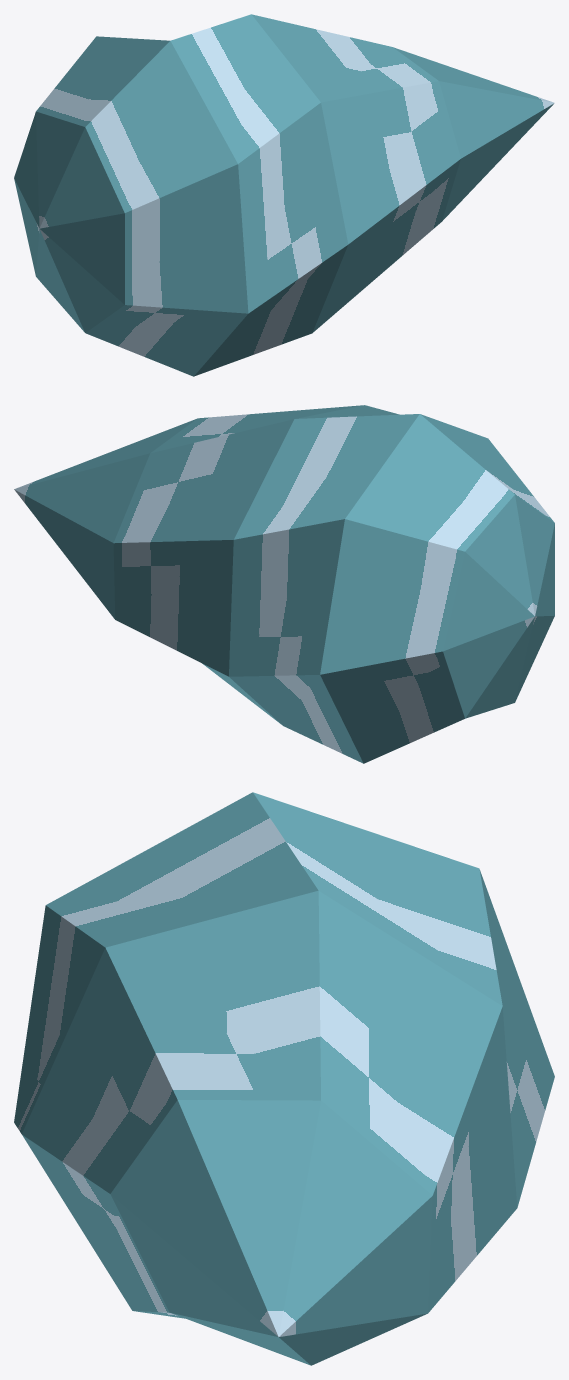
Rendered from bala.fbx.
3 renders of one model, top to bottom at view 1: azimuth 30°, elevation 25°; view 2: azimuth 150°, elevation 25°; view 3: azimuth 270°, elevation 25°, orthographic. The views are drawn at different scales.
Parts seen in each view (by area): view 1: bala; view 2: bala; view 3: bala.
Boxes of the visible parts, x1=… form: bala: x1=14, y1=14, x2=554, y2=376; bala: x1=14, y1=405, x2=554, y2=763; bala: x1=14, y1=792, x2=554, y2=1365.
Bounding box in the file's own units: 6.14 × 3.63 × 3.65.
